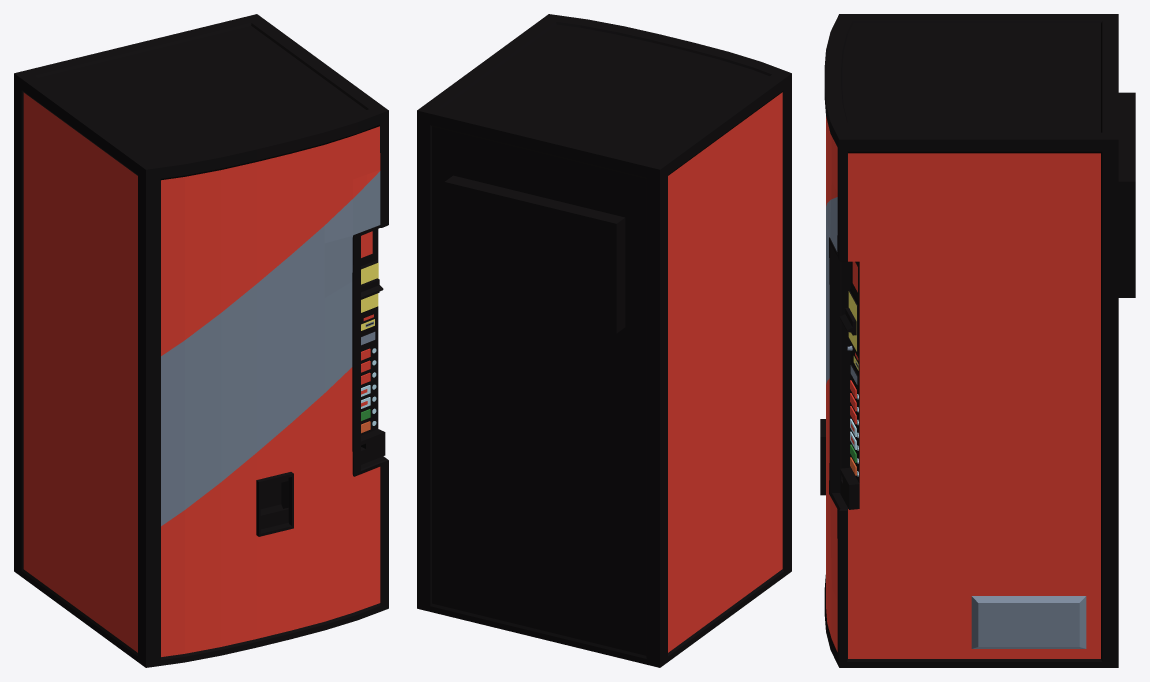
The model's file is vending.glb.
3 renders of one model, left to right at view 1: azimuth 30°, elevation 25°; view 2: azimuth 150°, elevation 25°; view 3: azimuth 270°, elevation 25°, orthographic. The views are drawn at different scales.
Visible parts, largest first — view 1: conk vendo; view 2: conk vendo; view 3: conk vendo.
Part boxes in pixels (box(x1,y1,x2,y2)): conk vendo: box(14, 14, 388, 667); conk vendo: box(417, 14, 791, 667); conk vendo: box(820, 14, 1135, 667).
Size of the model in its own units: 5.04 by 9.71 by 5.26.
2 materials, 2 textured.
